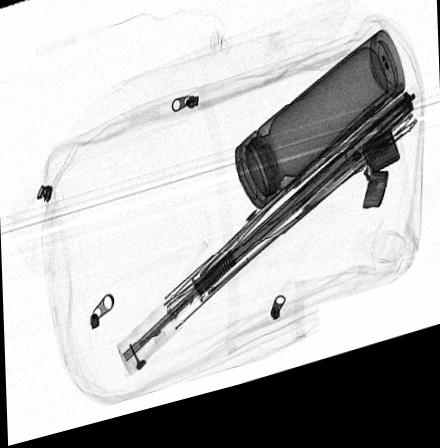Lighter: (350, 147, 399, 228)
